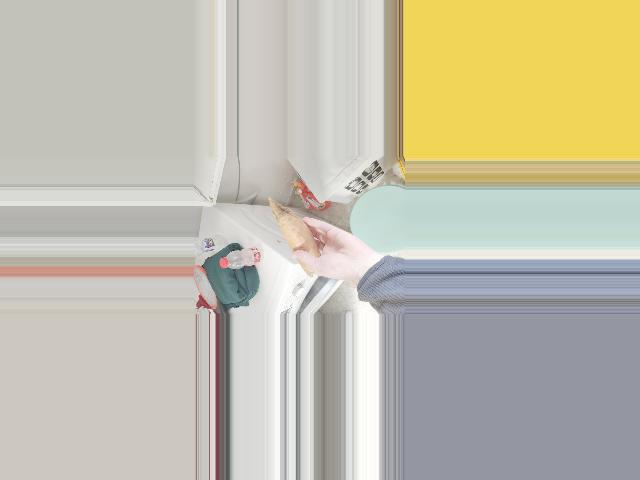sweet_potato: (280, 216, 318, 264)
